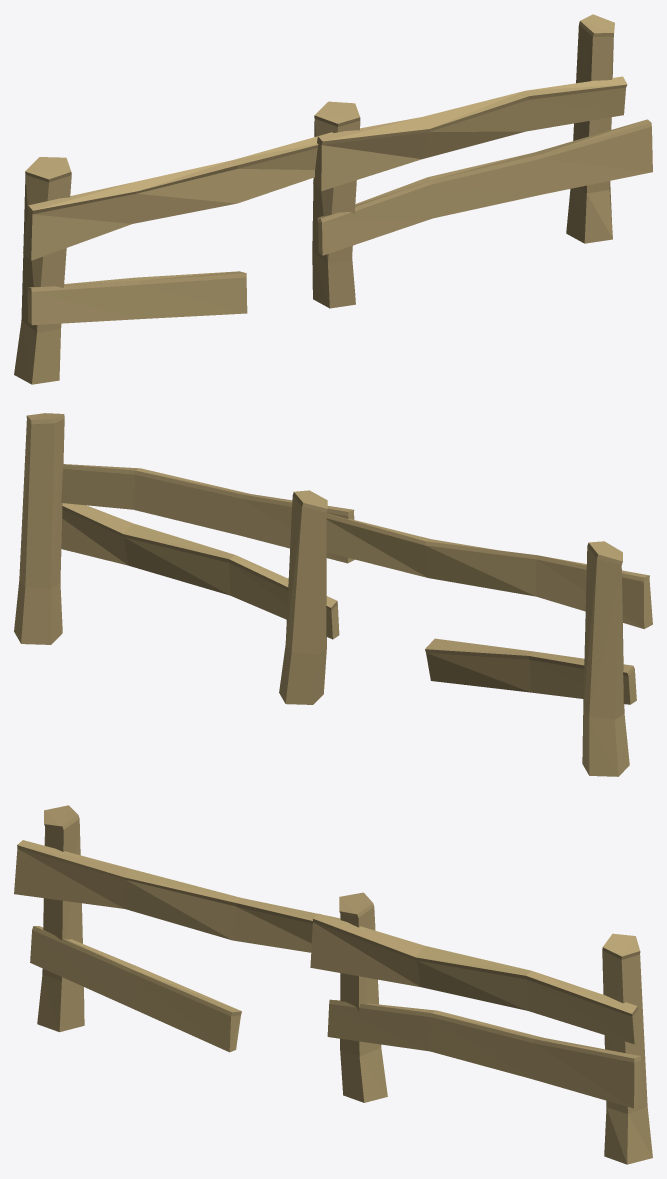
The model's file is LowPoly - Fence A.FBX.
The picture shows the model from 3 angles, top to bottom: view 1: azimuth 30°, elevation 25°; view 2: azimuth 150°, elevation 25°; view 3: azimuth 330°, elevation 25°; orthographic projection.
Parts seen in each view (by area): view 1: LowPolyFence_01, Snow_On_Fence; view 2: LowPolyFence_01, Snow_On_Fence; view 3: LowPolyFence_01, Snow_On_Fence.
Part boxes in pixels (x1,y1,x2,y2): LowPolyFence_01: (14, 25, 652, 384); Snow_On_Fence: (25, 14, 651, 291); LowPolyFence_01: (14, 418, 652, 776); Snow_On_Fence: (26, 413, 649, 675); LowPolyFence_01: (14, 819, 652, 1164); Snow_On_Fence: (17, 805, 640, 1062).
Size of the model in its own units: 496 by 166 by 56.37.
